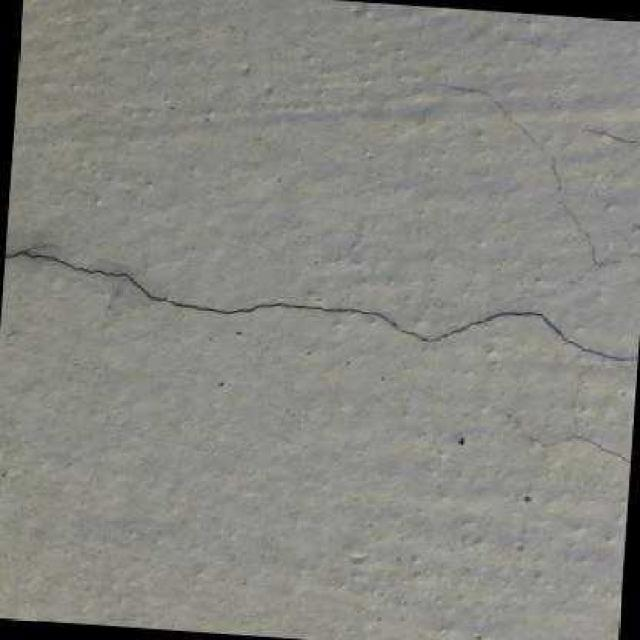D00: (3, 250, 638, 362)
